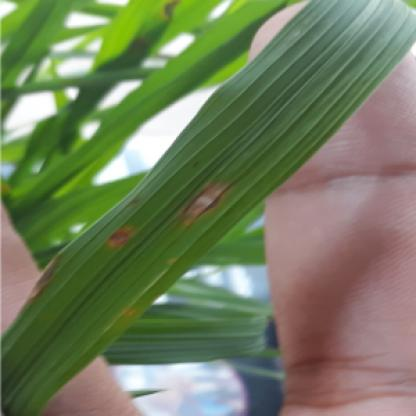Rice blast: (177, 176, 230, 231), (100, 218, 140, 258)
